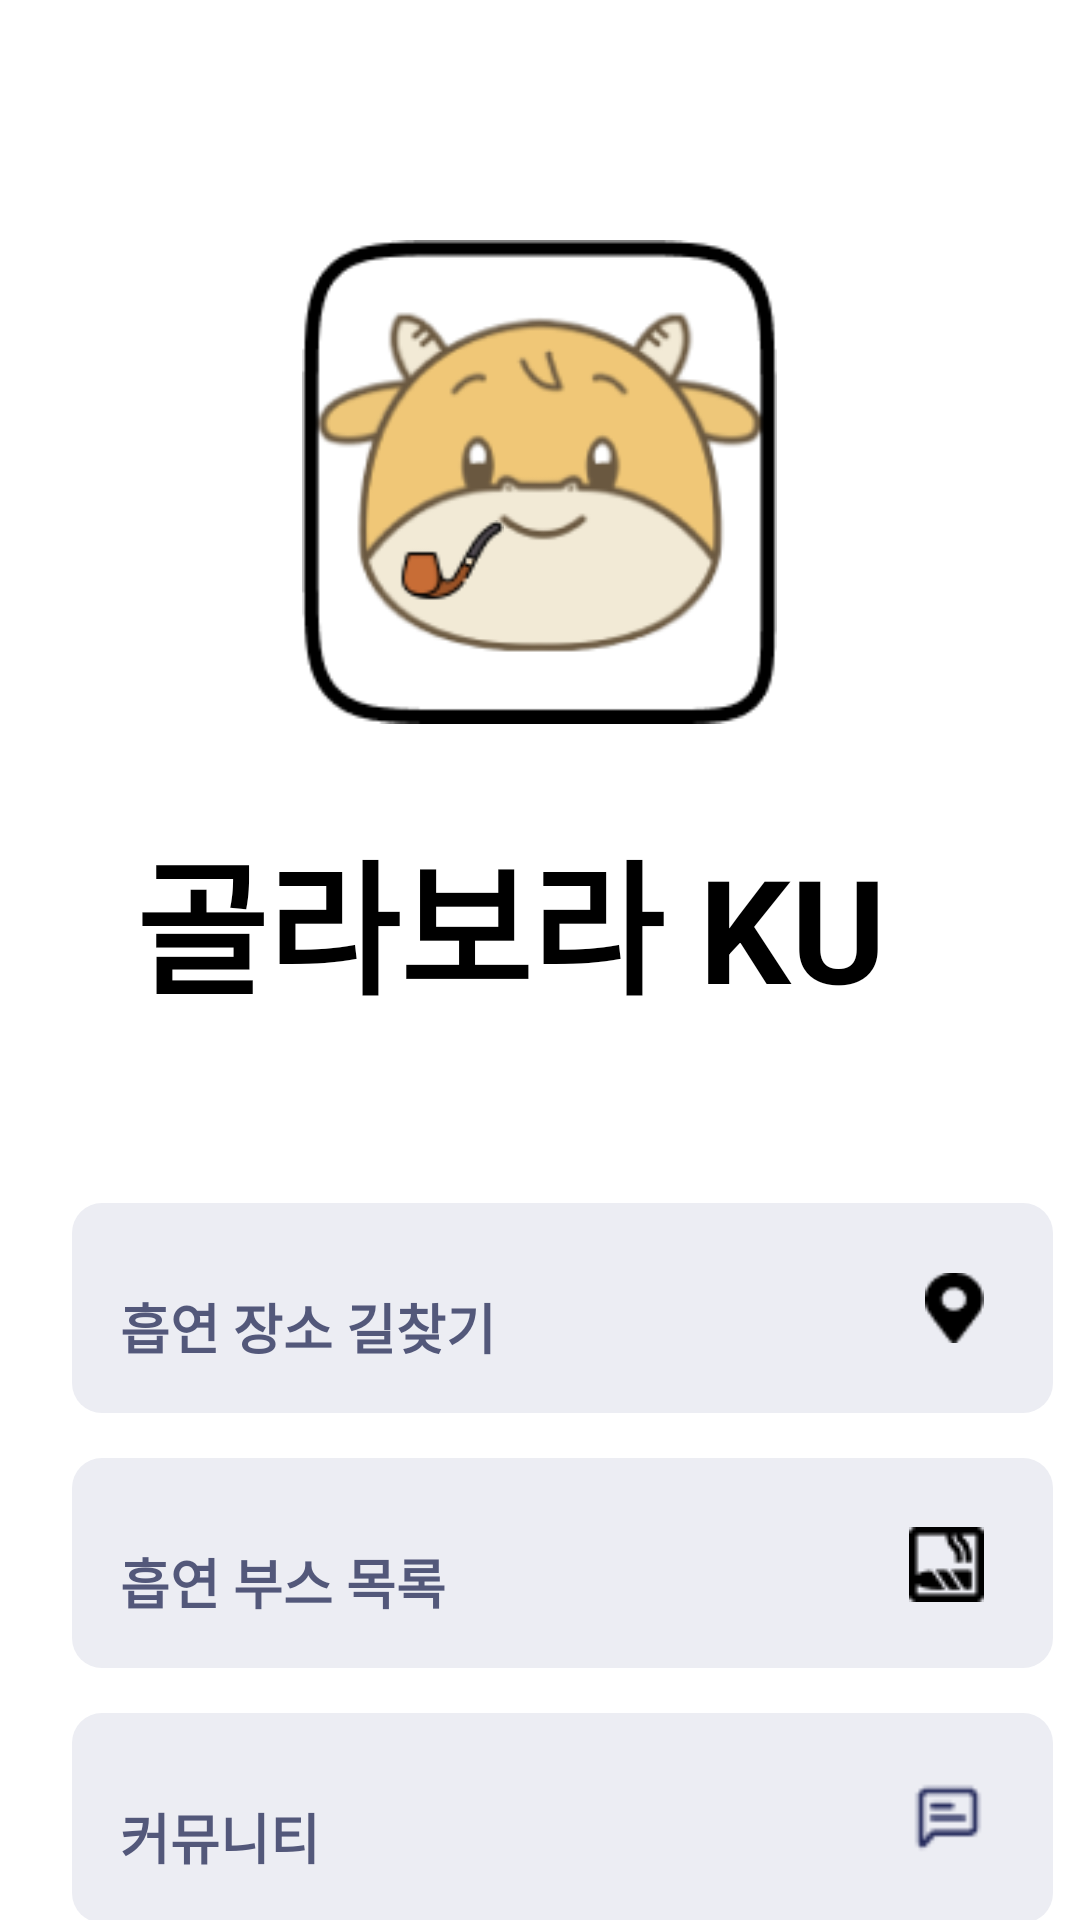

Point at icon controls on the screen. Image size 1080px×1920px, points as (x=x, y=y).
message: (x=948, y=1817)
pin marker: (x=954, y=1308)
smoking area: (x=946, y=1564)
